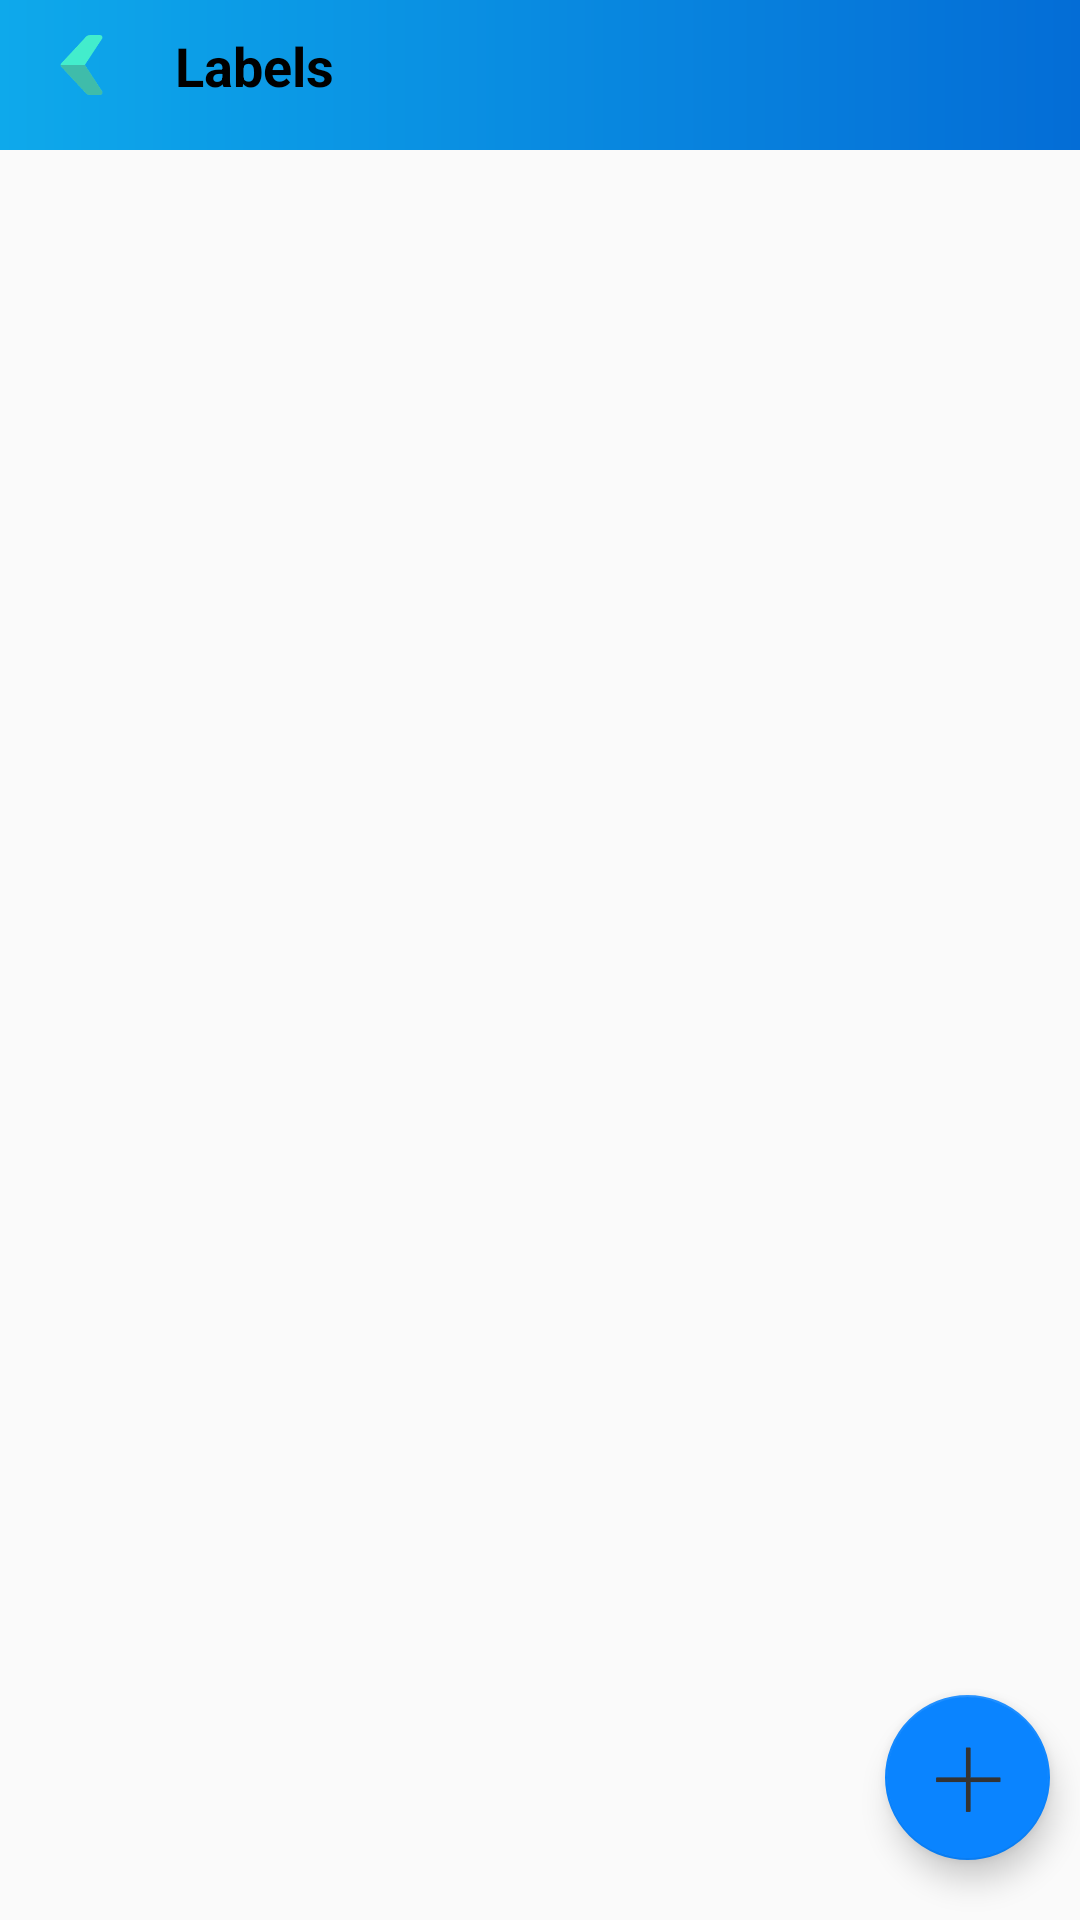

Where icons sit on this 1080px×1920px app screen, as (x1, y1, x2, y2):
Add new TODO item: (885, 1695, 1050, 1860)
backward: (61, 35, 103, 95)
